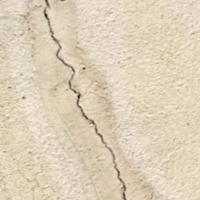crack: (42, 1, 130, 199)
